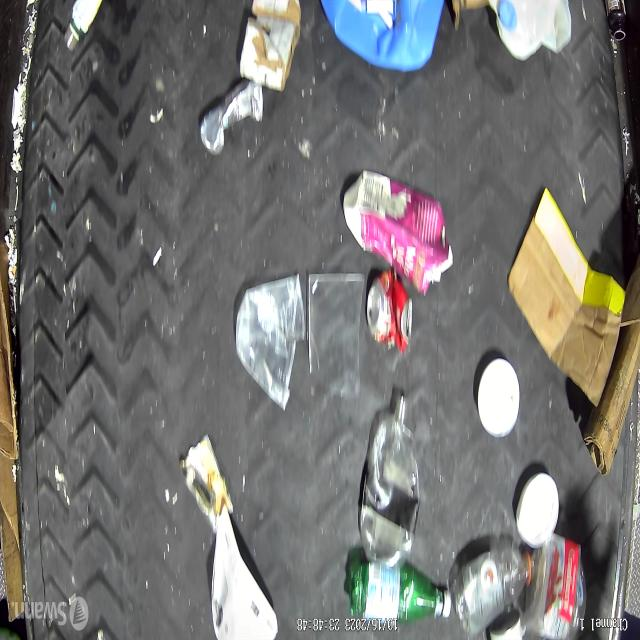can: (179, 434, 233, 533), (199, 76, 262, 156), (364, 271, 412, 358), (489, 609, 524, 639)
milk_jug: (494, 0, 569, 59)
non_white_jug: (343, 170, 453, 295), (315, 0, 443, 73)
plastic_bottle: (360, 394, 420, 567), (451, 546, 534, 632)
